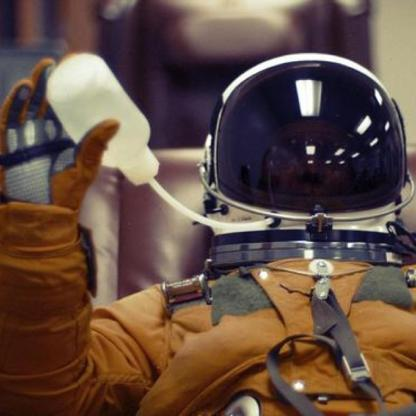Helmet: (186, 40, 403, 276)
